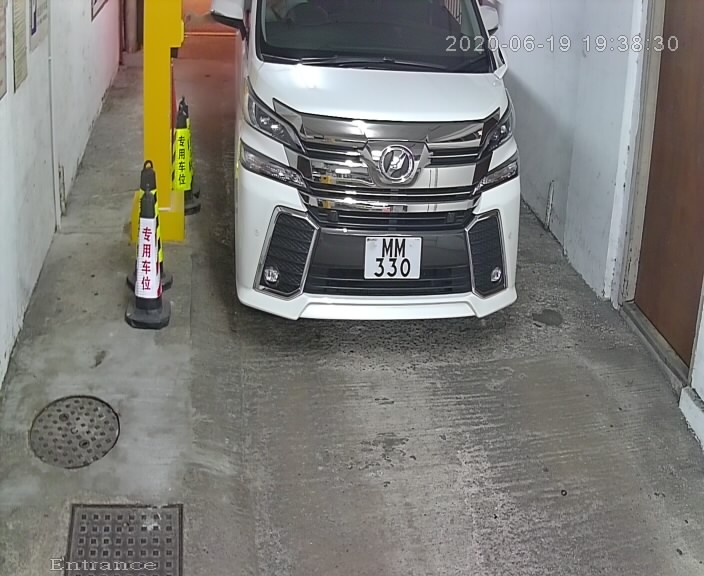privatecar: (225, 3, 529, 349)
